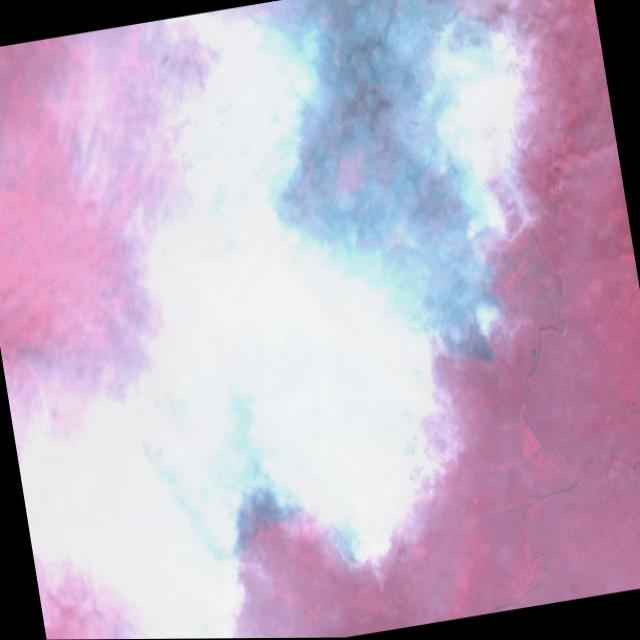fire: (69, 0, 483, 640)
